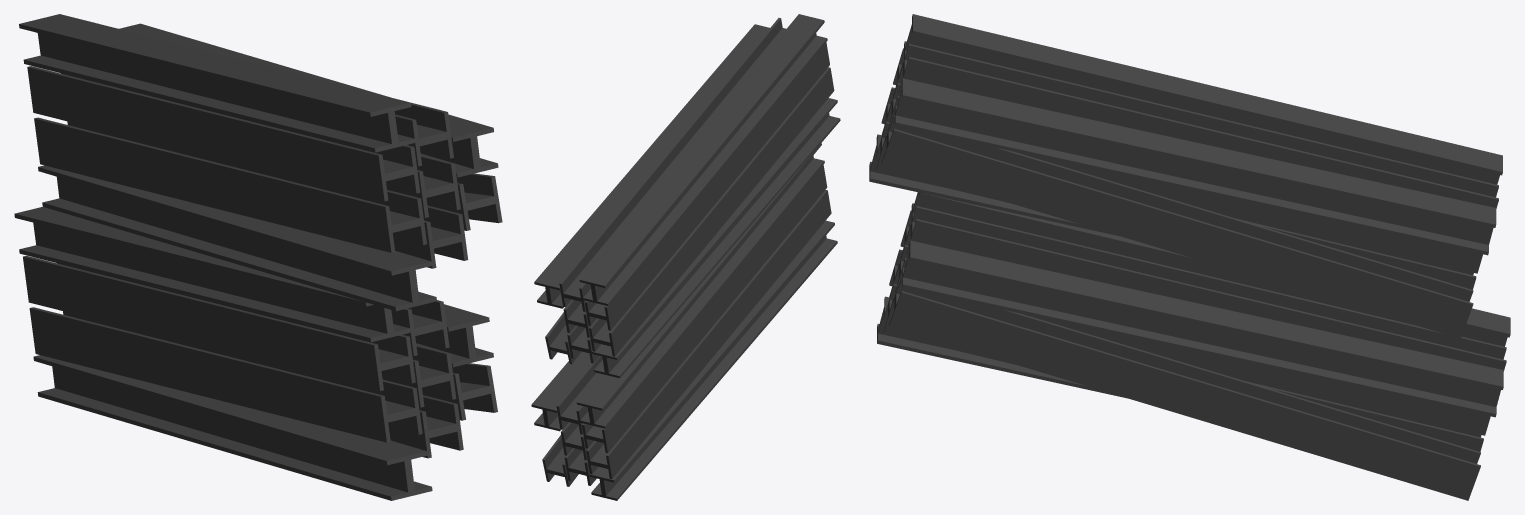
File: MetalsBroke.fbx
The picture shows the model from 3 angles, left to right: view 1: azimuth 30°, elevation 25°; view 2: azimuth 150°, elevation 25°; view 3: azimuth 270°, elevation 25°; orthographic projection. The views are drawn at different scales.
Parts seen in each view (by area): view 1: Metals_fracturepart13_2, Metals_fracturepart13, Metals_fracturepart5_2, Metals_fracturepart10_5, Metals_fracturepart7_5, Metals_fracturepart13_4, Metals_fracturepart2, Metals_fracturepart9_2, Metals_fracturepart19_2, Metals_fracturepart2_4, Metals_fracturepart8_6, Metals_fracturepart7_7 (+55 smaller); view 2: Metals_fracturepart13_2, Metals_fracturepart19_2, Metals_fracturepart11_2, Metals_fracturepart1_4, Metals_fracturepart18_2, Metals_fracturepart10_5, Metals_fracturepart5_2, Metals_fracturepart7_5, Metals_fracturepart9_2, Metals_fracturepart11_6, Metals_fracturepart1_6, Metals_fracturepart12_2 (+57 smaller); view 3: Metals_fracturepart3_10, Metals_fracturepart12_10, Metals_fracturepart8_9, Metals_fracturepart10_7, Metals_fracturepart11_6, Metals_fracturepart12_9, Metals_fracturepart8_8, Metals_fracturepart17_5, Metals_fracturepart13_7, Metals_fracturepart14_7, Metals_fracturepart6_7, Metals_fracturepart13_3 (+55 smaller).
Part boxes in pixels (x1,y1,x2,y2): Metals_fracturepart13_2: (270,79,416,152); Metals_fracturepart13: (285,131,420,201); Metals_fracturepart5_2: (304,242,436,311); Metals_fracturepart10_5: (131,385,270,459); Metals_fracturepart7_5: (208,352,337,423); Metals_fracturepart13_4: (299,184,424,238); Metals_fracturepart2: (311,331,415,390); Metals_fracturepart9_2: (214,217,321,284); Metals_fracturepart19_2: (165,53,271,118); Metals_fracturepart2_4: (310,378,414,442); Metals_fracturepart8_6: (316,431,432,498); Metals_fracturepart7_7: (232,411,339,478); Metals_fracturepart13_2: (742,14,827,111); Metals_fracturepart19_2: (678,119,743,197); Metals_fracturepart11_2: (623,161,696,231); Metals_fracturepart1_4: (576,359,645,428); Metals_fracturepart18_2: (590,227,653,294); Metals_fracturepart10_5: (665,332,750,432); Metals_fracturepart5_2: (772,98,840,186); Metals_fracturepart7_5: (718,251,785,331); Metals_fracturepart9_2: (712,176,783,250); Metals_fracturepart11_6: (582,156,655,236); Metals_fracturepart1_6: (586,412,644,478); Metals_fracturepart12_2: (712,83,768,141); Metals_fracturepart3_10: (1235,384,1417,485); Metals_fracturepart12_10: (973,150,1134,232); Metals_fracturepart8_9: (889,278,1040,371); Metals_fracturepart10_7: (1101,352,1260,438); Metals_fracturepart11_6: (1205,148,1383,218); Metals_fracturepart12_9: (1000,107,1153,179); Metals_fracturepart8_8: (902,240,1035,316); Metals_fracturepart17_5: (1233,233,1376,309); Metals_fracturepart13_7: (894,78,1033,148); Metals_fracturepart14_7: (1149,298,1281,362); Metals_fracturepart6_7: (1363,261,1473,338); Metals_fracturepart13_3: (898,44,1057,106).
Size of the model in its own units: 90.42 by 388 by 509.
1 material, 1 textured.
